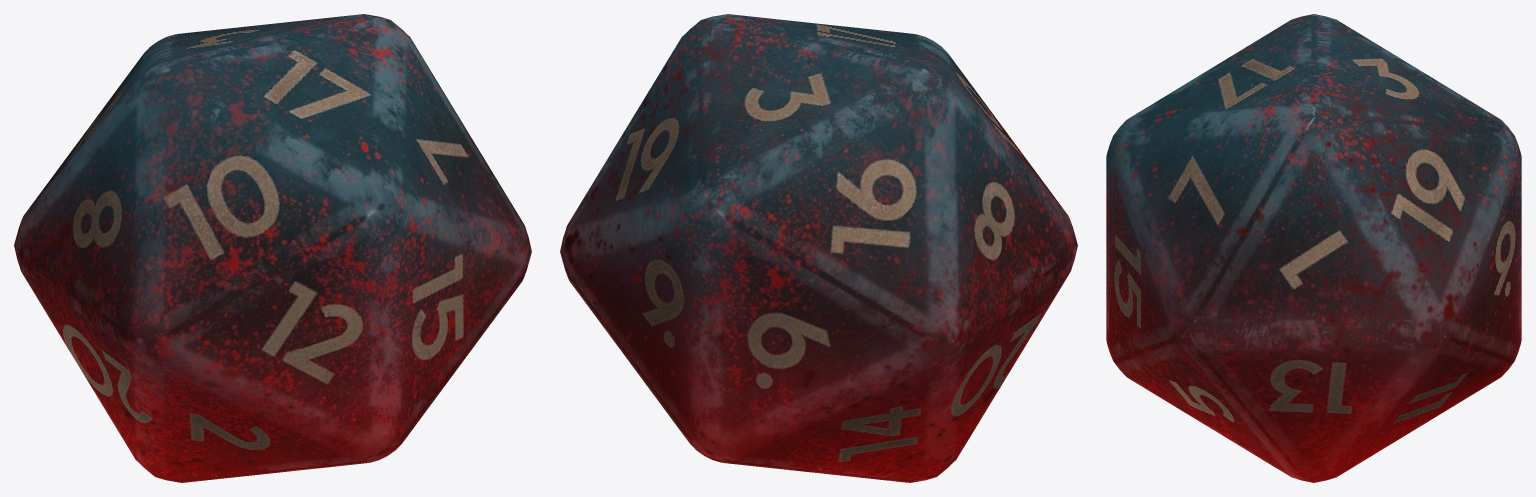
File: TPK_d20.gltf
The picture shows the model from 3 angles, left to right: view 1: azimuth 30°, elevation 25°; view 2: azimuth 150°, elevation 25°; view 3: azimuth 270°, elevation 25°; orthographic projection. The views are drawn at different scales.
Visible parts, largest first — view 1: dice_20; view 2: dice_20; view 3: dice_20.
Boxes of the visible parts, left/top/right/bottom form: dice_20: left=14, top=14, right=531, bottom=482; dice_20: left=560, top=14, right=1077, bottom=482; dice_20: left=1106, top=14, right=1521, bottom=482.
Bounding box in the file's own units: 167 × 167 × 167.
Materials: 1 (1 with a texture image).
